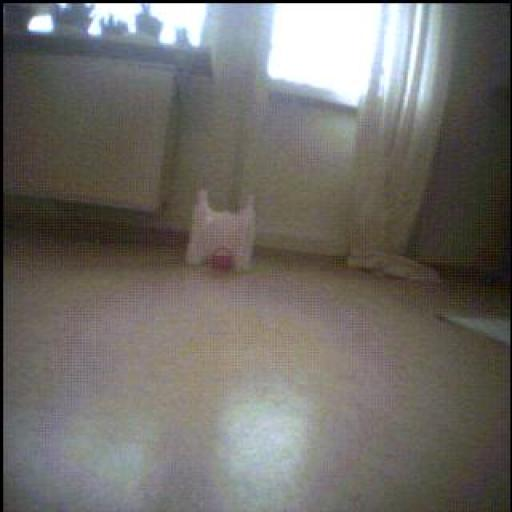Basket: (212, 248, 235, 272)
